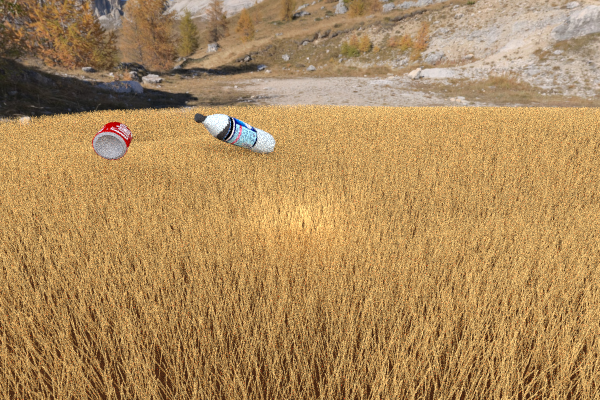Plastic Bottle: (194, 113, 275, 154), (91, 121, 132, 160)
